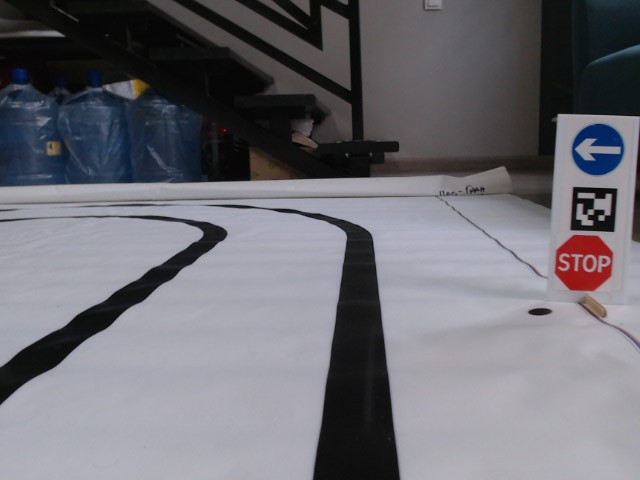Stop: (555, 232, 615, 293)
